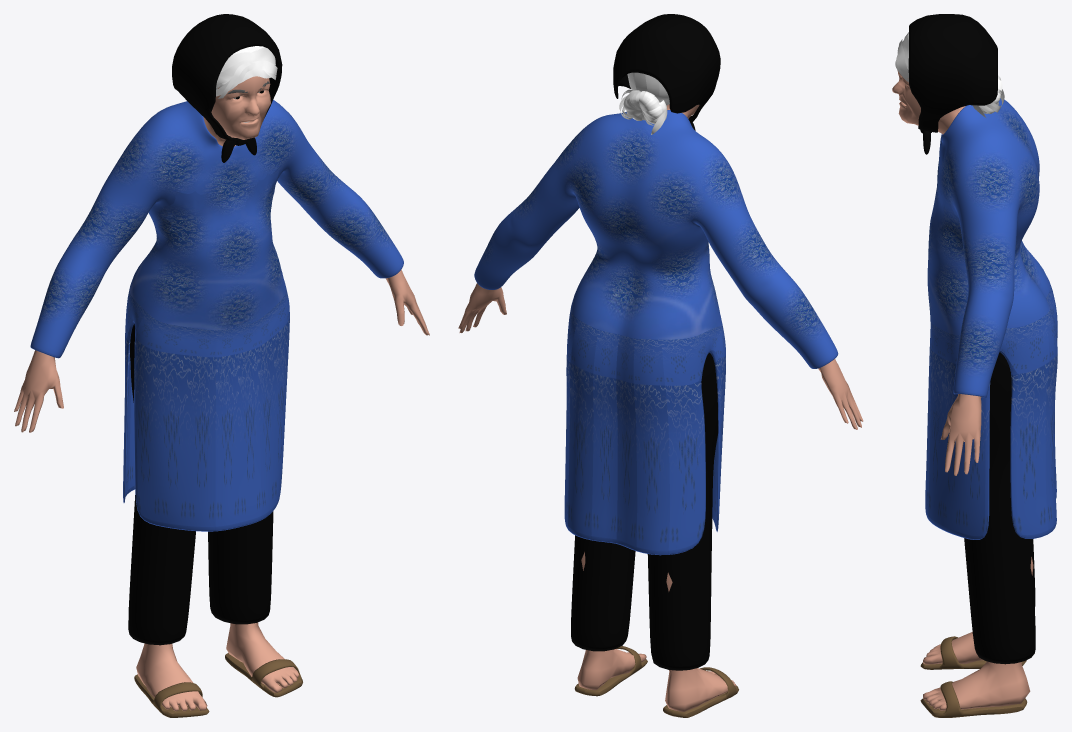
Rendered from FemaleOlderPpl.glb.
3 views of the same model, side by side, from view 1: azimuth 30°, elevation 25°; view 2: azimuth 150°, elevation 25°; view 3: azimuth 270°, elevation 25° (orthographic). The views are drawn at different scales.
Parts seen in each view (by area): view 1: polySurface589, polySurface449, polySurface445, polySurface591, polySurface443, polySurface448; view 2: polySurface589, polySurface449, polySurface591, polySurface445, polySurface443, polySurface448; view 3: polySurface589, polySurface449, polySurface591, polySurface445, polySurface448, polySurface443.
Part boxes in pixels (<box>): polySurface589: <box>30,99,403,531</box>; polySurface449: <box>128,324,273,645</box>; polySurface445: <box>14,76,429,711</box>; polySurface591: <box>172,14,282,140</box>; polySurface443: <box>134,674,209,717</box>; polySurface448: <box>225,653,302,697</box>; polySurface589: <box>474,110,838,555</box>; polySurface449: <box>571,353,718,670</box>; polySurface591: <box>613,14,720,123</box>; polySurface445: <box>458,104,863,711</box>; polySurface443: <box>663,667,738,717</box>; polySurface448: <box>574,646,647,696</box>; polySurface589: <box>925,98,1057,539</box>; polySurface449: <box>964,352,1035,664</box>; polySurface591: <box>908,14,997,132</box>; polySurface445: <box>892,70,1033,710</box>; polySurface448: <box>920,681,1027,717</box>; polySurface443: <box>920,636,1026,669</box>.
Bounding box in the file's own units: 1.06 × 1.68 × 0.3779.
10 materials, 1 textured.
